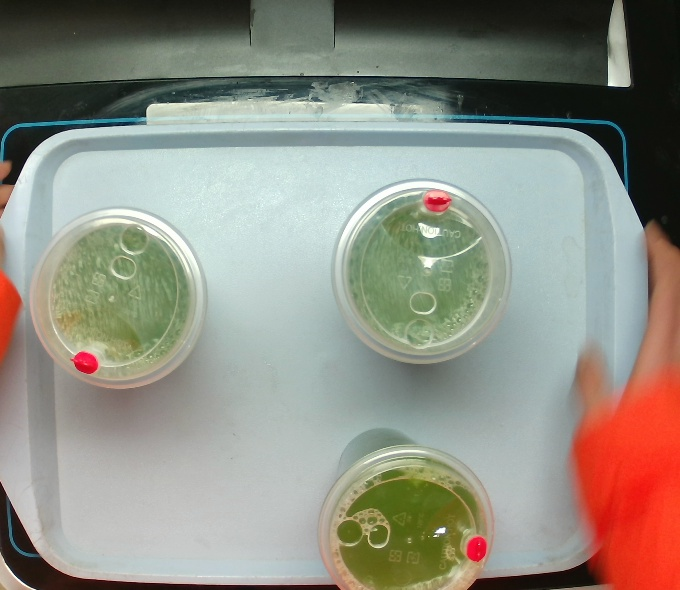wcq-HuangGuaZhi: (327, 175, 514, 366), (27, 204, 209, 392), (314, 423, 497, 590)
